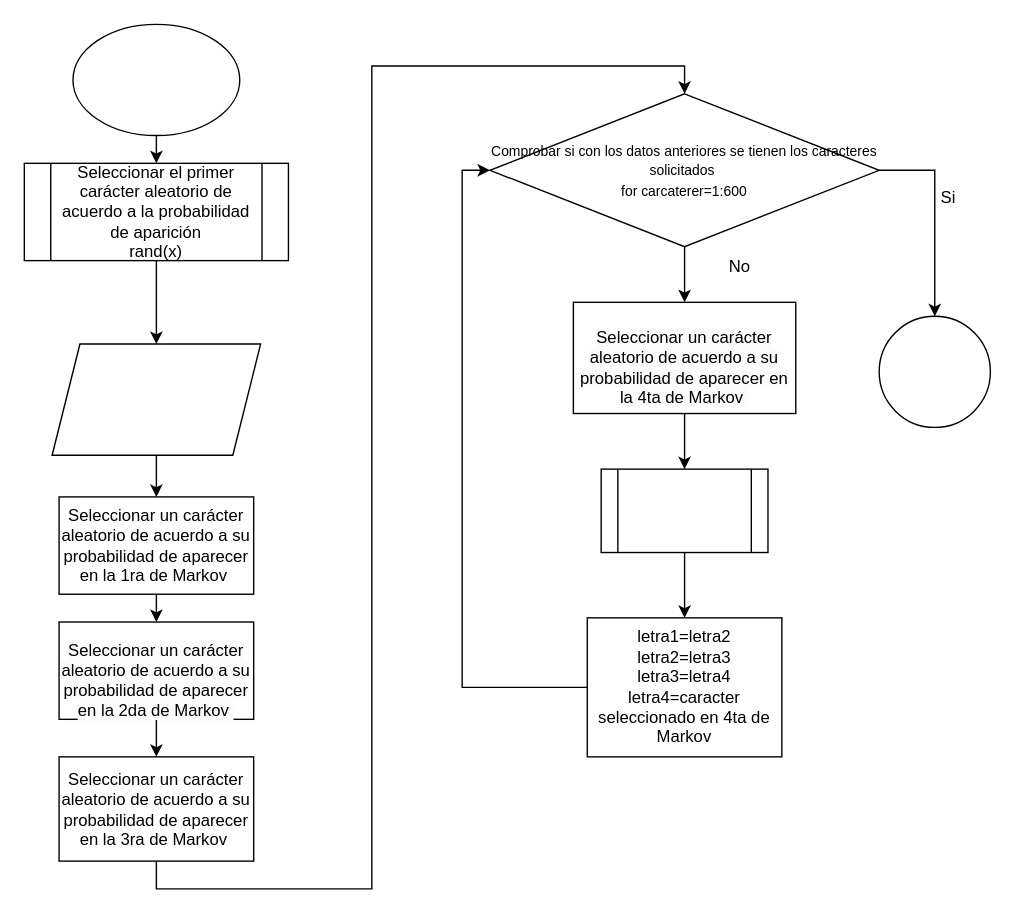
The diagram is 1015 pixels wide and 924 high, and some of its shapes have lost their labels. The shapes that lost their labels are listed below. From the top down, each one's box as (x1, y1, x2, y2) in pixels, then its label:
(72, 23, 240, 136): Inicio
(878, 315, 990, 427): FIN
(51, 343, 261, 455): Datos Markov 1er orden Markov 2do orden Markov 3er orden
(600, 468, 768, 553): Recorres letras a analizar
